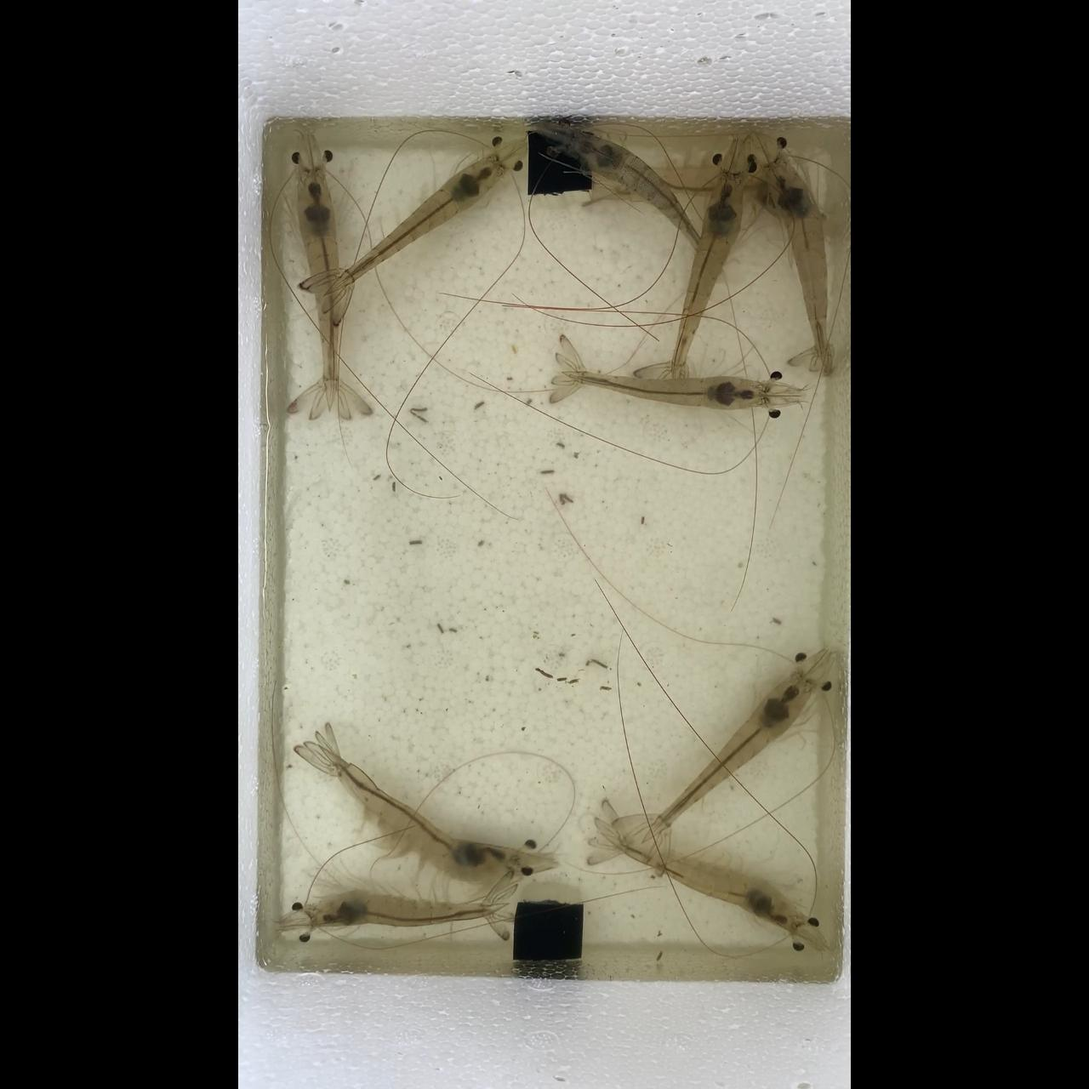box: (513, 900, 583, 961), (528, 132, 596, 191)
top_shrimp: (642, 675, 811, 843), (318, 744, 505, 886), (322, 157, 505, 294), (594, 817, 798, 926), (574, 137, 712, 262), (674, 174, 744, 386), (770, 160, 827, 371), (298, 170, 338, 414), (560, 372, 767, 410), (310, 893, 509, 928), (583, 168, 779, 201)
